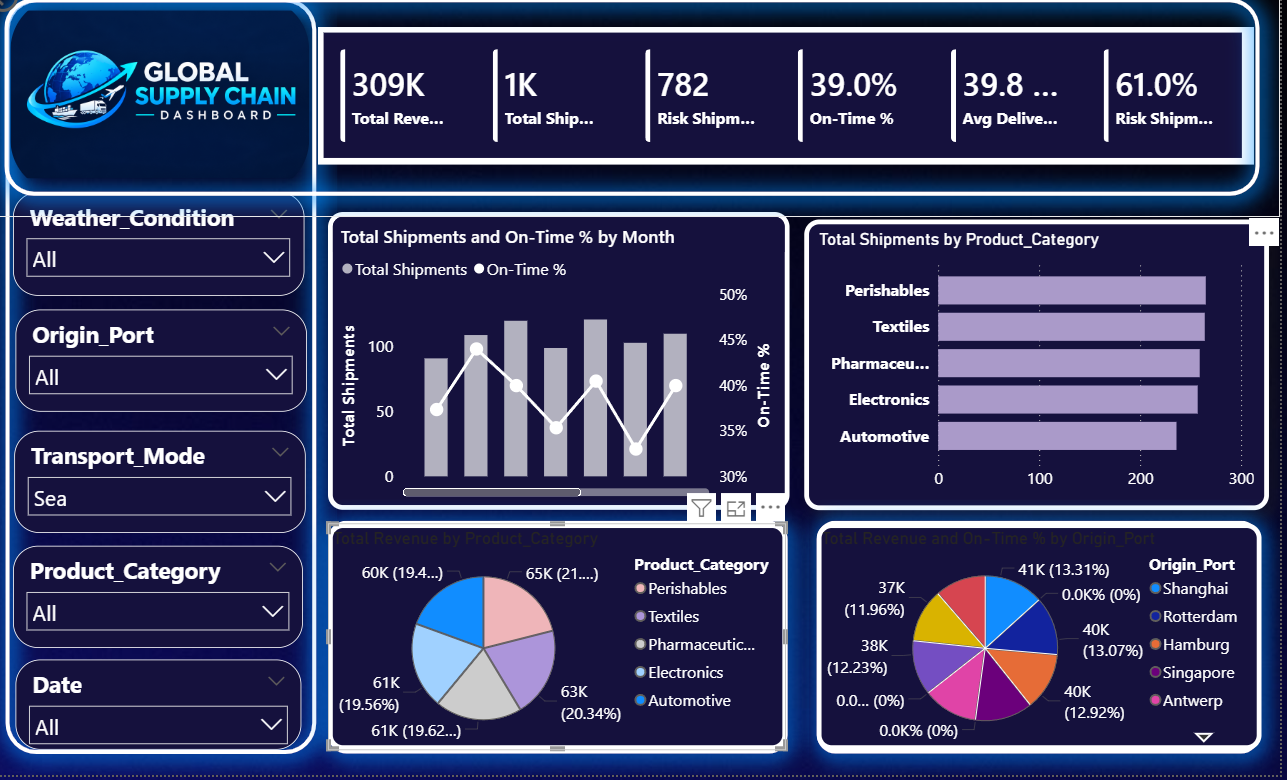

This screenshot's page, from the dashboard's own definition file:
{"tool":"powerbi","page":{"name":"Page 1","canvas":[1300,800],"ordinal":0},"visuals":[{"type":"shape","box":[1.4,0,354,800],"z":0},{"type":"cardVisual","fields":{"Data":["global_supply_chain_risk_2026.Total Revenue","global_supply_chain_risk_2026.Total Shipments","global_supply_chain_risk_2026.Risk Shipments","global_supply_chain_risk_2026.On-Time %","global_supply_chain_risk_2026.Avg Delivery Time","global_supply_chain_risk_2026.Risk Shipments %"]},"box":[335.9,50.2,937.9,138],"z":1000},{"type":"lineClusteredColumnComboChart","fields":{"Category":["global_supply_chain_risk_2026.Date.Variation.Date Hierarchy.Month"],"Y":["global_supply_chain_risk_2026.Total Shipments"],"Y2":["global_supply_chain_risk_2026.On-Time %"]},"box":[345.6,235.5,462.7,298.2],"z":2000},{"type":"clusteredBarChart","fields":{"Category":["global_supply_chain_risk_2026.Product_Category"],"Y":["global_supply_chain_risk_2026.Total Shipments"]},"box":[822.3,242.5,465.5,291.3],"z":3000},{"type":"slicer","fields":{"Values":["global_supply_chain_risk_2026.Weather_Condition"]},"box":[30.1,215.4,291.8,103.9],"z":4000},{"type":"slicer","fields":{"Values":["global_supply_chain_risk_2026.Origin_Port"]},"box":[32.6,333.1,291.8,102.7],"z":5000},{"type":"slicer","fields":{"Values":["global_supply_chain_risk_2026.Transport_Mode"]},"box":[31.3,454.6,291.8,102.7],"z":6000},{"type":"slicer","fields":{"Values":["global_supply_chain_risk_2026.Product_Category"]},"box":[30.1,569.8,290.5,102.7],"z":7000},{"type":"shape","box":[0,0,1300.3,240.5],"z":8000},{"type":"actionButton","box":[0,0,100,40],"z":9000},{"type":"shape","box":[813.9,524,486.4,275.9],"z":10000},{"type":"shape","box":[324.7,524,503.1,275.9],"z":11000},{"type":"pieChart","fields":{"Category":["global_supply_chain_risk_2026.Product_Category"],"Y":["global_supply_chain_risk_2026.Total Revenue"]},"box":[345.6,547.7,459.9,227.2],"z":12000},{"type":"pieChart","fields":{"Category":["global_supply_chain_risk_2026.Origin_Port"],"Y":["global_supply_chain_risk_2026.Total Revenue","global_supply_chain_risk_2026.On-Time %"]},"box":[834.8,547.7,446,227.2],"z":13000},{"type":"slicer","fields":{"Values":["global_supply_chain_risk_2026.Date"]},"box":[32.6,683.8,286.8,90.2],"z":14000},{"type":"image","box":[27.2,20.4,298.9,195.7],"z":14001}]}

Visuals, with their boxes in screenshot pixels (x1, y1, x2, y2), scaled from the page's 1300x800 canvas onto the 1287x780 screenshot:
shape: <box>1,0,352,779</box>
cardVisual - global_supply_chain_risk_2026.Total Revenue x global_supply_chain_risk_2026.Total Shipments: <box>333,49,1261,183</box>
lineClusteredColumnComboChart - global_supply_chain_risk_2026.Date.Variation.Date Hierarchy.Month x global_supply_chain_risk_2026.Total Shipments: <box>342,230,800,520</box>
clusteredBarChart - global_supply_chain_risk_2026.Product_Category x global_supply_chain_risk_2026.Total Shipments: <box>814,236,1275,520</box>
slicer - global_supply_chain_risk_2026.Weather_Condition: <box>30,210,319,311</box>
slicer - global_supply_chain_risk_2026.Origin_Port: <box>32,325,321,425</box>
slicer - global_supply_chain_risk_2026.Transport_Mode: <box>31,443,320,543</box>
slicer - global_supply_chain_risk_2026.Product_Category: <box>30,556,317,656</box>
shape: <box>0,0,1286,234</box>
actionButton: <box>0,0,99,39</box>
shape: <box>806,511,1286,779</box>
shape: <box>321,511,820,779</box>
pieChart - global_supply_chain_risk_2026.Product_Category x global_supply_chain_risk_2026.Total Revenue: <box>342,534,797,756</box>
pieChart - global_supply_chain_risk_2026.Origin_Port x global_supply_chain_risk_2026.Total Revenue: <box>826,534,1268,756</box>
slicer - global_supply_chain_risk_2026.Date: <box>32,667,316,755</box>
image: <box>27,20,323,211</box>
